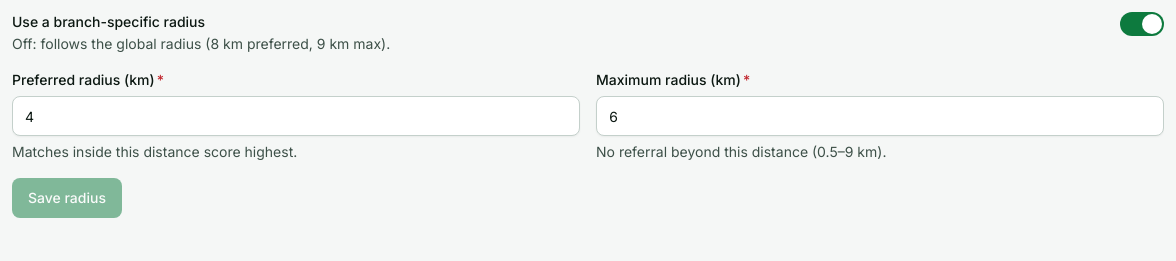
Scenario: BranchRadiusForm › shows the "within the global maximum" error on the max field
The width and height of the screenshot is (1176, 261).
Replace the text in the number field labelled "Maximum radius (km)*" with "9.5": (880, 116) [609,97,1151,135]
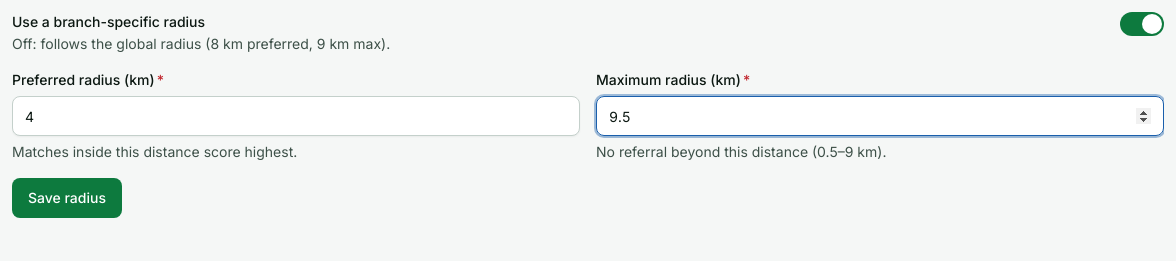
Click the button "Save radius": (67, 198) [12,178,122,218]
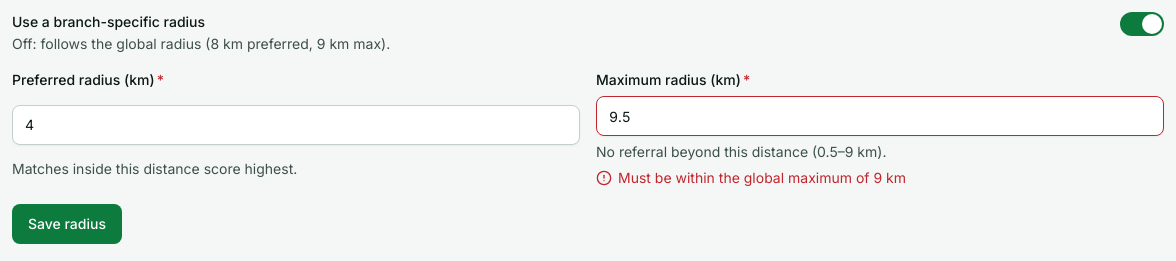
Now the text "Must be within the global maximum of 9 km" is shown, box [618,168,906,188]
